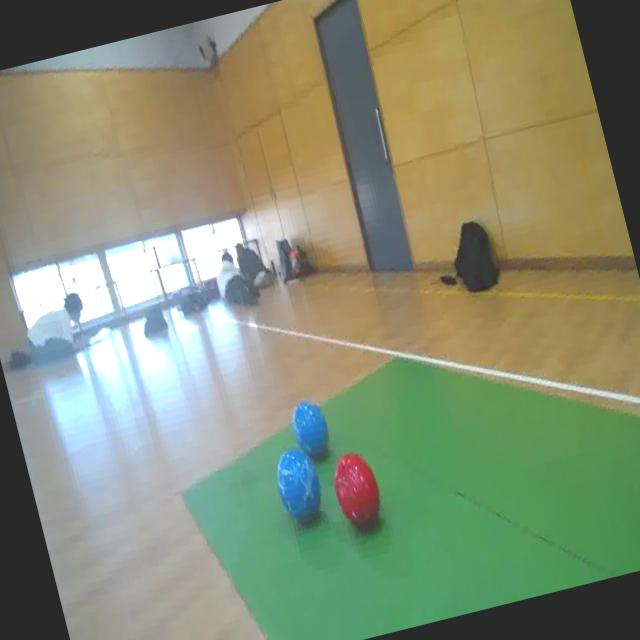blue_ball: (267, 440, 329, 532), (288, 396, 336, 463)
red_ball: (325, 444, 389, 538)
